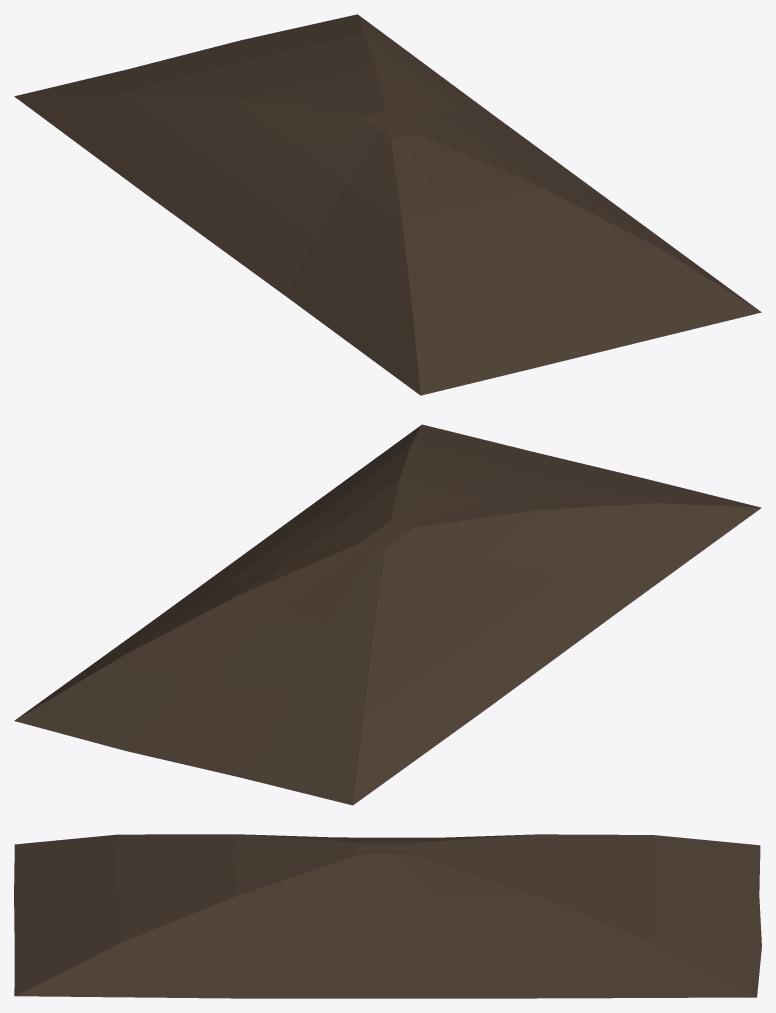
Rendered from Dirt Pile.fbx.
3 renders of one model, top to bottom at view 1: azimuth 30°, elevation 25°; view 2: azimuth 150°, elevation 25°; view 3: azimuth 270°, elevation 25°, orthographic. The views are drawn at different scales.
Visible parts, largest first — view 1: Cube.321; view 2: Cube.321; view 3: Cube.321.
Boxes of the visible parts, x1,y1,x2,y2 form: Cube.321: [14, 14, 761, 395]; Cube.321: [14, 424, 761, 805]; Cube.321: [14, 834, 761, 998].
Bounding box in the file's own units: 1.69 × 0.3941 × 3.49.
